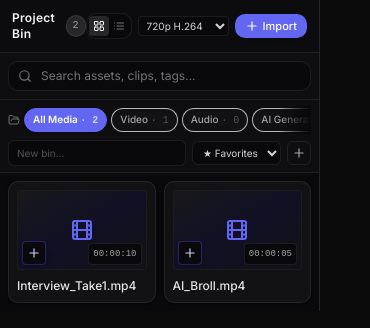
Test: R24.7 — labelled search and bins (acceptance) › AI Generated bin filters with no duplicate pill row (single taxonomy)
Note: The AI bin actually filters.
Click the button titled "AI Generated (1)" at (303, 120), box [252, 108, 354, 132]
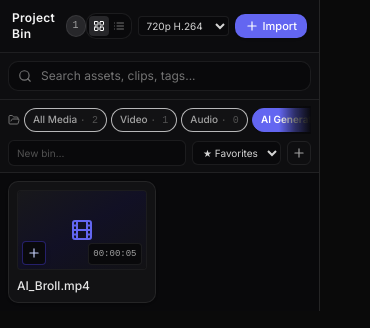
Expected: the text "AI_Broll.mp4" is shown, [17, 278, 90, 294]
Now the text "Interview_Take1.mp4" is gone
